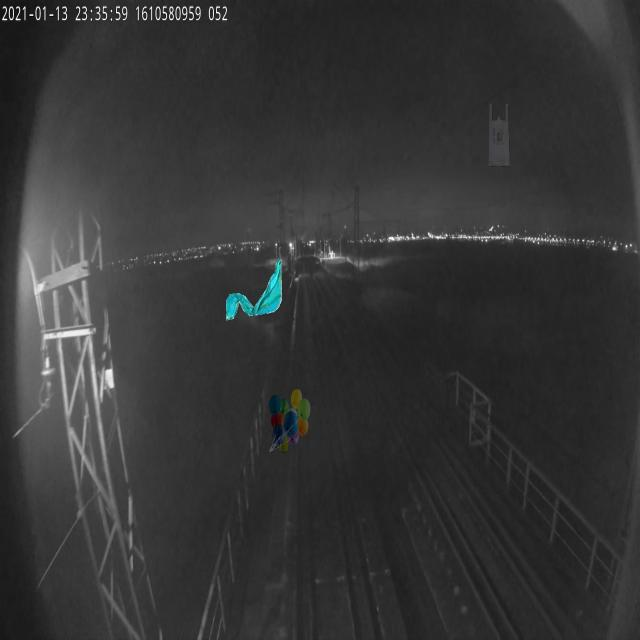balloon: (269, 388, 311, 452)
floating object: (226, 258, 282, 322)
plastic bag: (488, 103, 509, 167)
